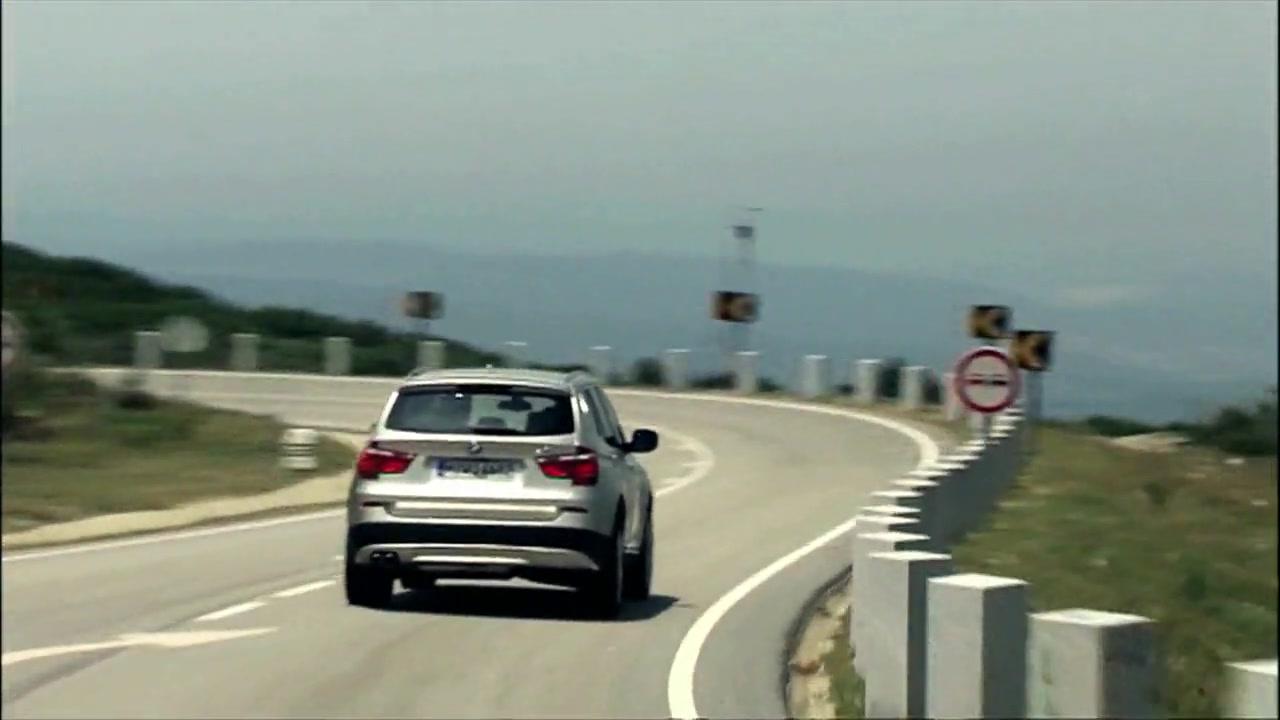car: (343, 363, 662, 620)
